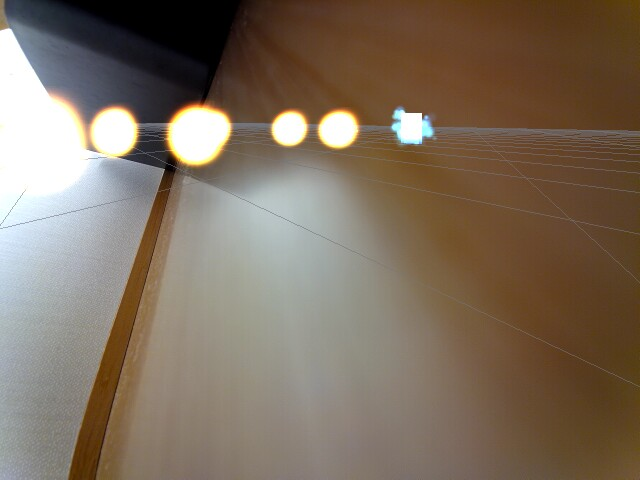fire: (0, 93, 94, 196), (166, 100, 233, 168), (88, 103, 141, 160), (320, 107, 359, 151), (271, 108, 308, 149)
